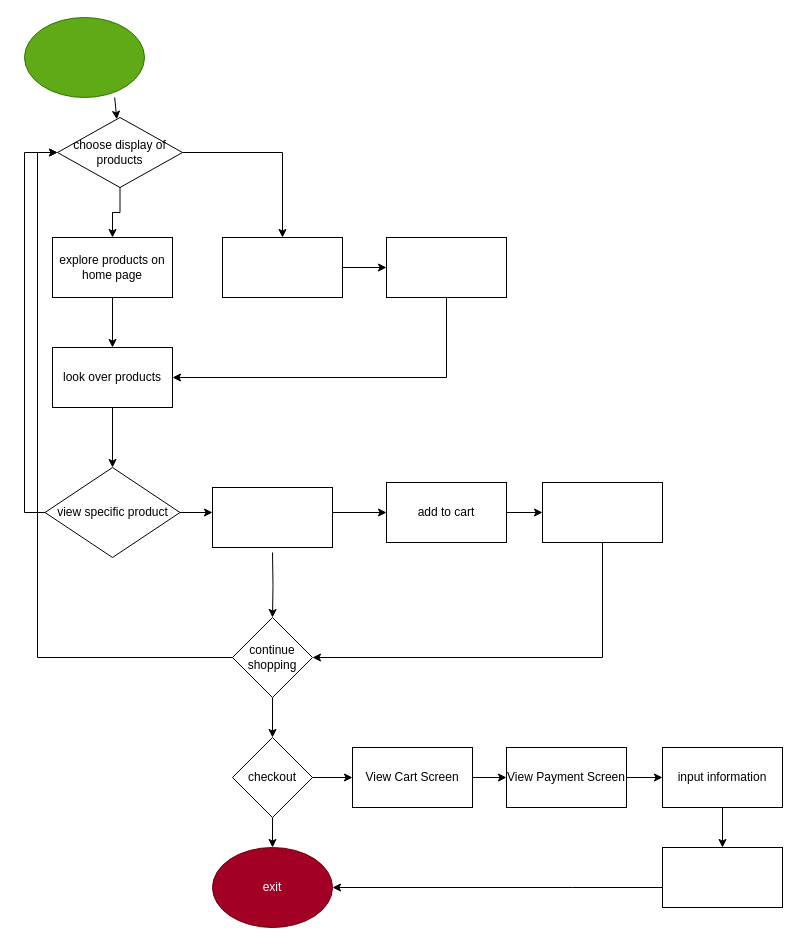
This 800x945 diagram has some shape labels left out. Here are the shapes that lost their labels. From the top down, the centre of each, then its label:
At pixel 84 57: "start".
At pixel 282 267: "search for a project".
At pixel 446 267: "provide input".
At pixel 272 517: "open product webpage".
At pixel 602 512: "recieve confirmation".
At pixel 722 877: "confirmation screen & email".
